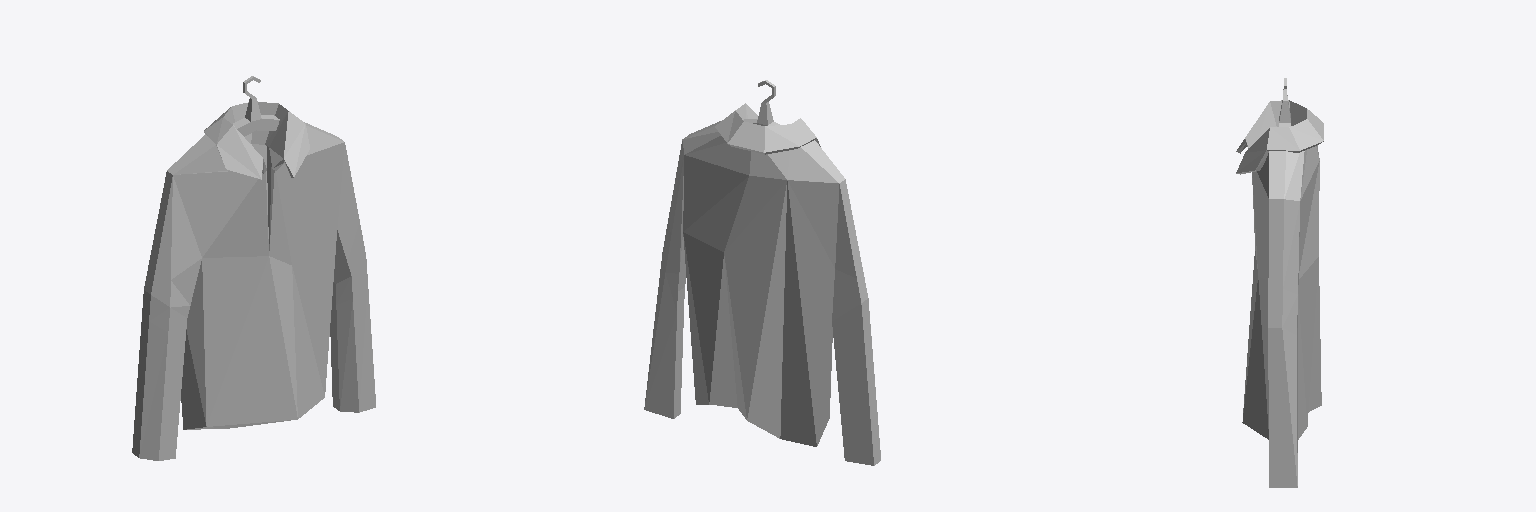
File: clothes_001.obj
The picture shows the model from 3 angles: view 1: azimuth 30°, elevation 25°; view 2: azimuth 150°, elevation 25°; view 3: azimuth 270°, elevation 25°; orthographic projection.
Parts seen in each view (by area): view 1: clothes_001; view 2: clothes_001; view 3: clothes_001.
Part boxes in pixels (x1,y1,x2,y2): clothes_001: (132,76,375,460); clothes_001: (644,80,880,465); clothes_001: (1236,78,1323,487).
Bounding box in the file's own units: 0.6414 × 0.9466 × 0.2131.